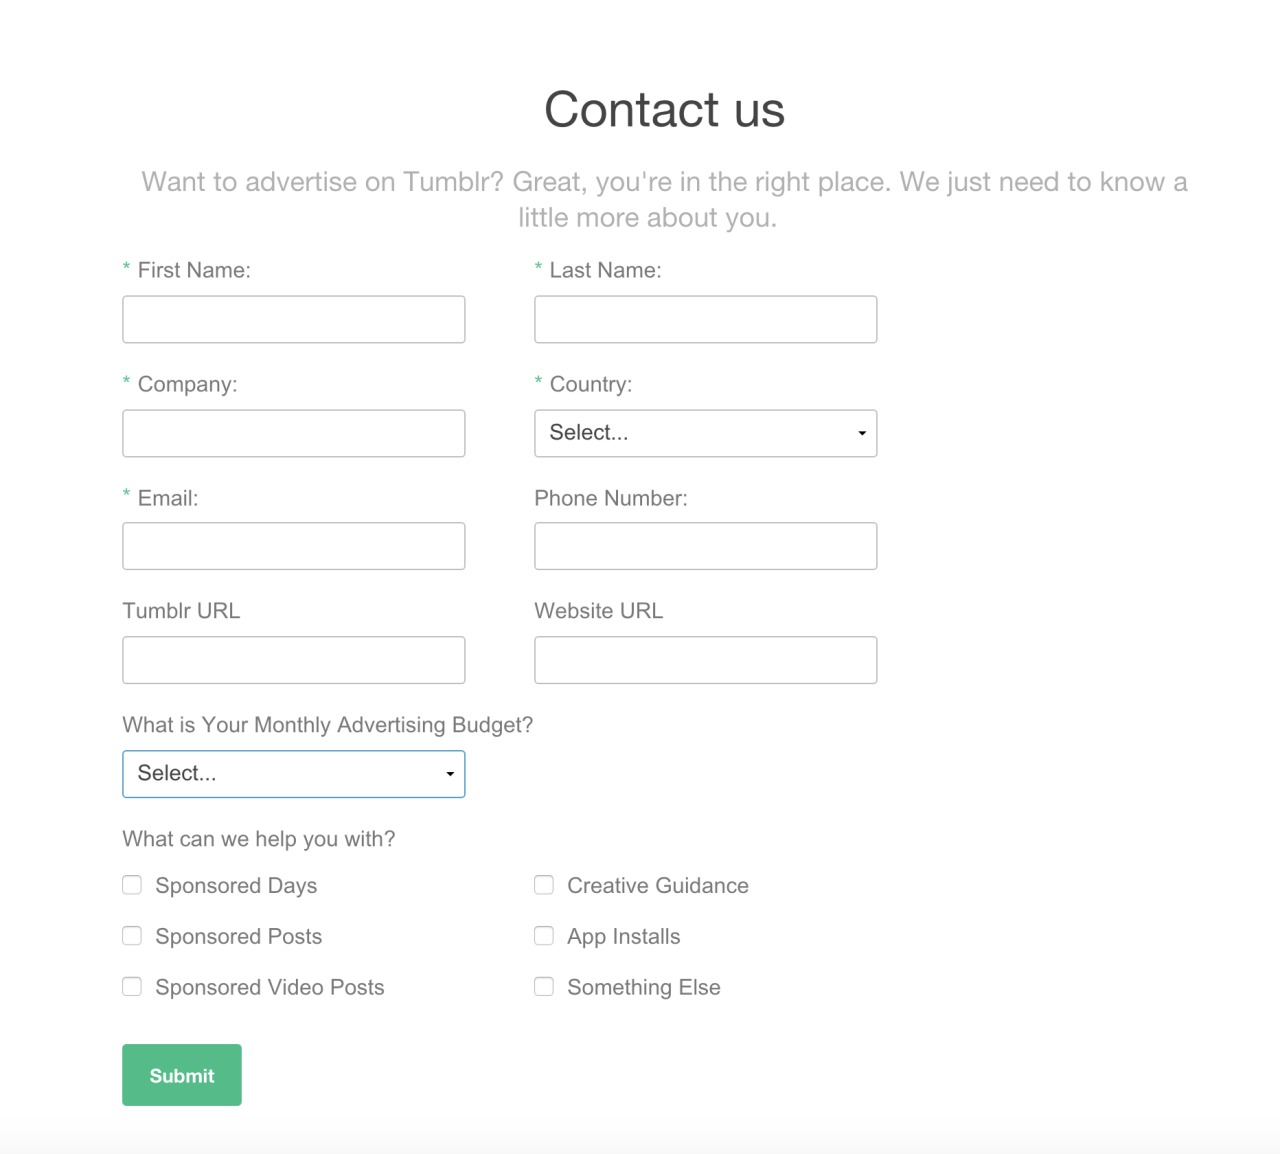_form_: (84, 471, 537, 823), (81, 769, 494, 1123), (78, 245, 489, 599), (502, 237, 913, 591), (504, 360, 915, 714)
button: (123, 1043, 243, 1108)
checkbox: (532, 971, 559, 998), (123, 873, 149, 898), (120, 972, 144, 998), (532, 872, 556, 897), (120, 925, 144, 948), (536, 923, 557, 949)
checkbox_with_label: (115, 970, 385, 1001), (530, 869, 748, 902), (528, 968, 723, 1001), (118, 869, 315, 901), (114, 922, 324, 952), (530, 921, 681, 951)
field: (119, 405, 469, 459), (532, 291, 879, 344), (120, 292, 466, 345), (532, 633, 881, 685), (117, 635, 467, 686), (531, 519, 880, 570), (118, 524, 469, 571)
field_with_label: (119, 714, 530, 801), (526, 371, 885, 464), (113, 598, 470, 688), (115, 257, 469, 348), (113, 374, 473, 462), (528, 260, 885, 348), (529, 599, 885, 687), (526, 489, 885, 574), (115, 490, 470, 574)
select: (531, 408, 881, 459), (121, 749, 467, 799)
